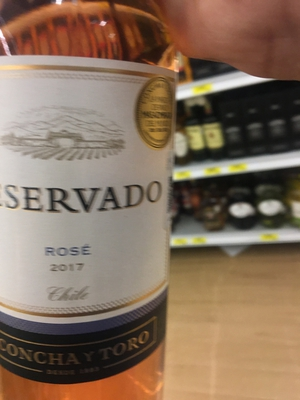reservado rose: (1, 24, 184, 397)
